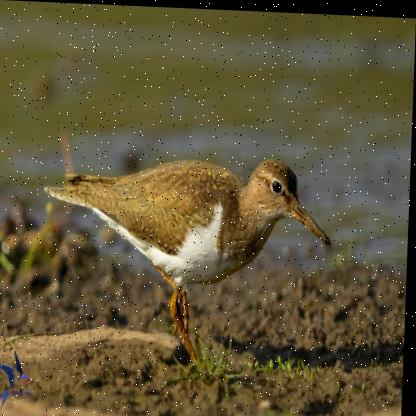Burung: (39, 145, 332, 362)
